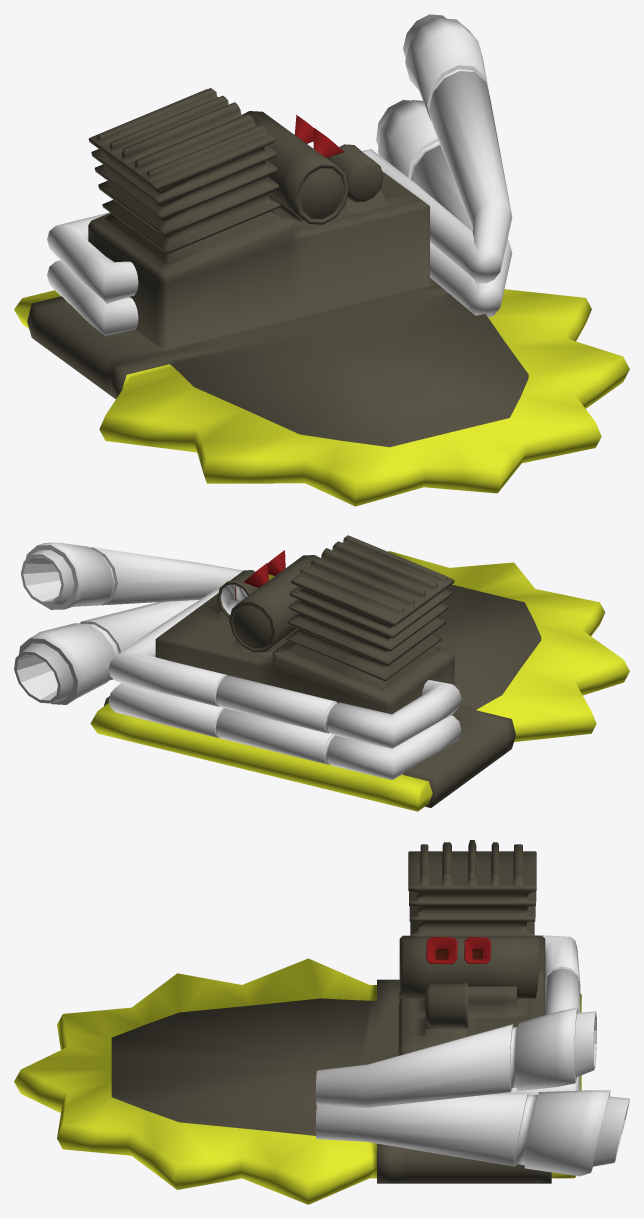
File: heavystar.fbx
3 renders of one model, top to bottom at view 1: azimuth 30°, elevation 25°; view 2: azimuth 150°, elevation 25°; view 3: azimuth 270°, elevation 25°, orthographic. The views are drawn at different scales.
Parts seen in each view (by area): view 1: heavystar; view 2: heavystar; view 3: heavystar.
Part boxes in pixels (x1,y1,x2,y2): heavystar: (14,14,629,506); heavystar: (14,535,629,811); heavystar: (14,840,629,1204).
Bounding box in the file's own units: 217 × 90.96 × 238.
